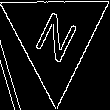N_SW: (29, 5, 82, 69)
